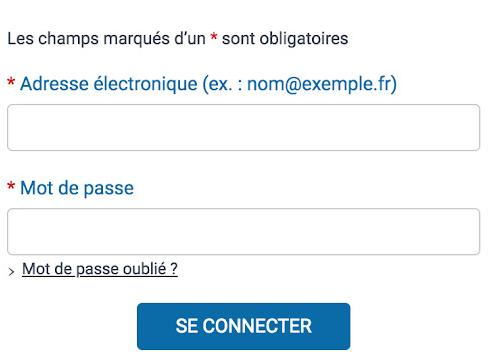button: (135, 302, 352, 351)
field: (6, 207, 481, 257), (6, 103, 481, 152)
field_with_label: (4, 178, 484, 259), (3, 75, 483, 154)
